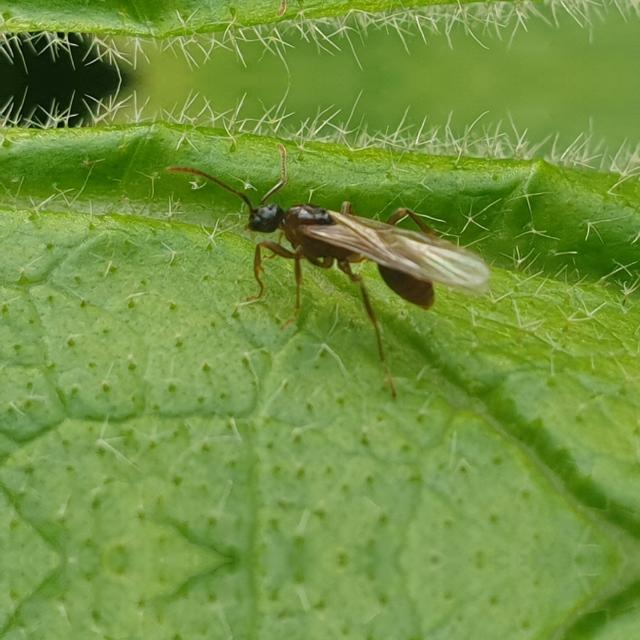Myrmica: (155, 132, 489, 348)
